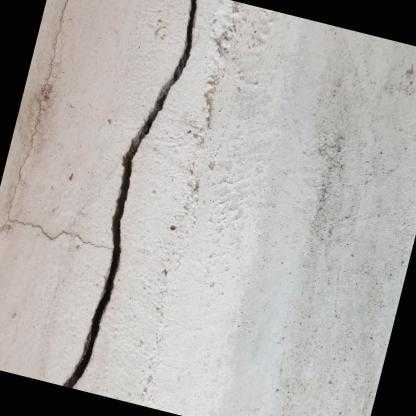crack: (62, 0, 197, 388), (6, 0, 111, 250)
